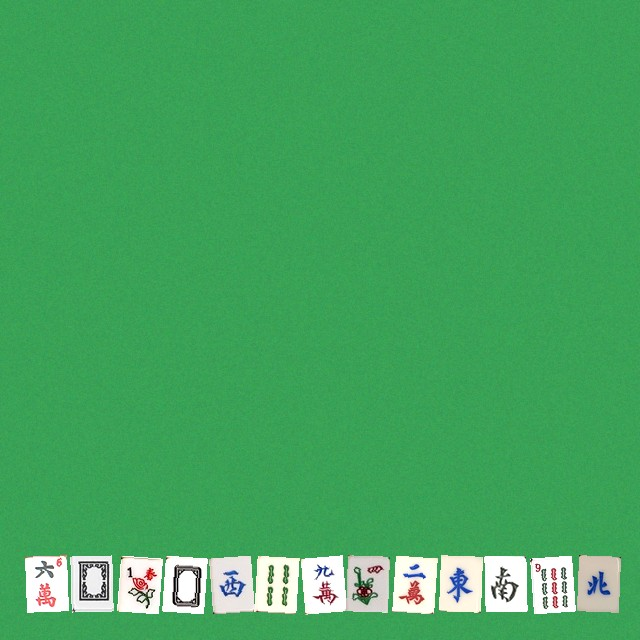tile: (24, 555, 66, 611), (70, 555, 112, 611), (116, 555, 158, 611), (162, 555, 204, 611), (208, 555, 250, 611), (254, 555, 296, 611), (300, 555, 342, 611), (346, 555, 388, 611), (392, 555, 434, 611), (438, 555, 480, 611), (484, 555, 526, 611), (530, 555, 572, 611), (576, 555, 618, 611)
